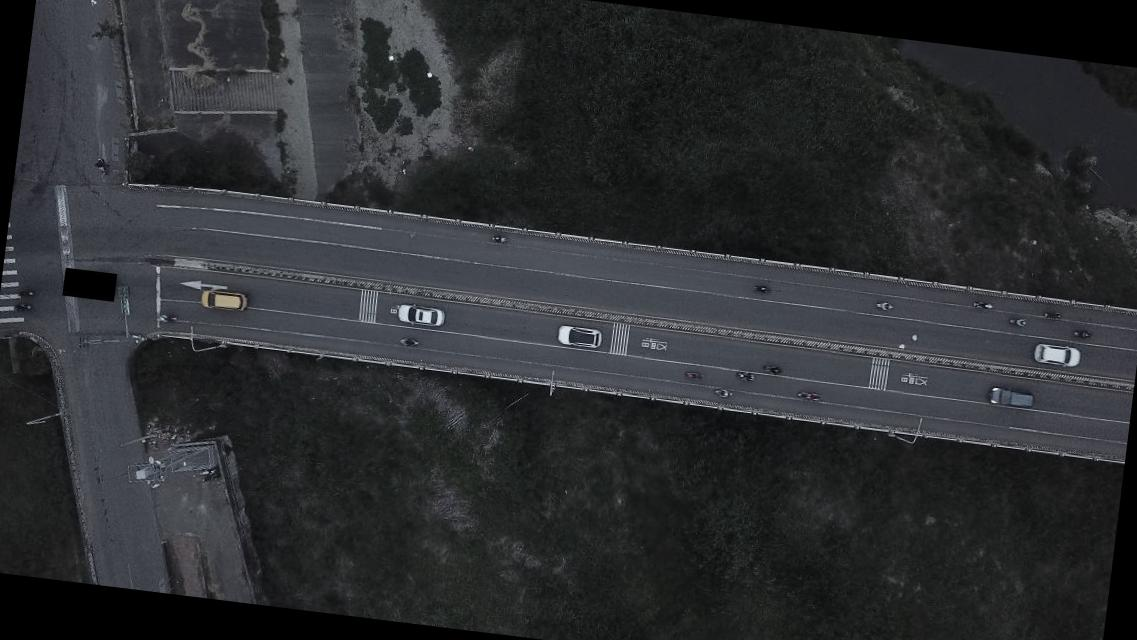vehicle: (1030, 342, 1082, 372), (198, 289, 250, 315), (394, 301, 444, 327), (553, 323, 602, 349), (987, 382, 1034, 408)
